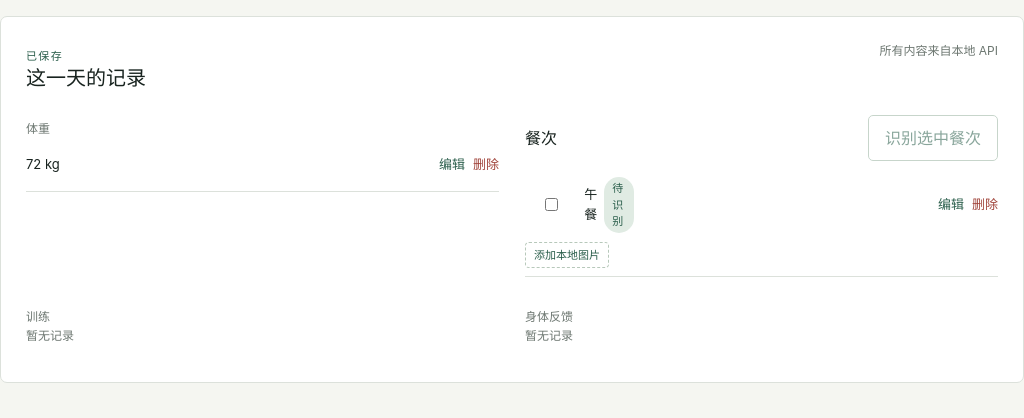
Test: SavedRecords › shows an error and releases the edit state when a saved record update fails
Click the button with aria-label "编辑体重". click: (452, 165)
box: [439,147,465,182]
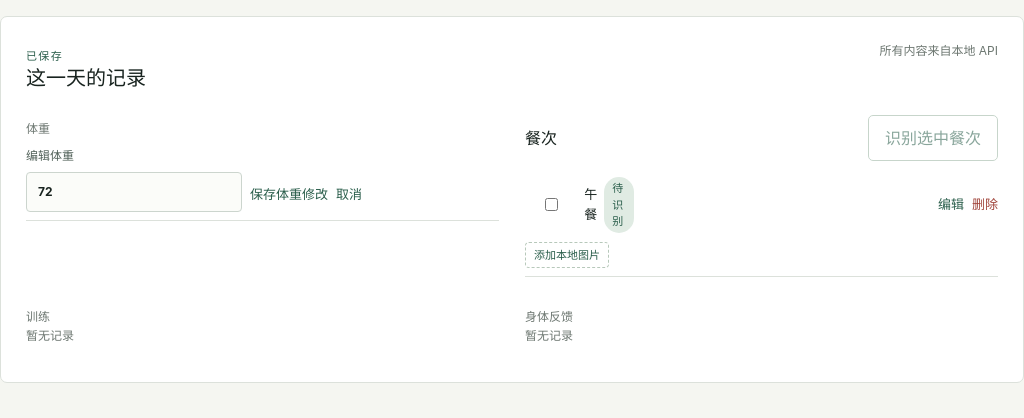
Click the button "保存体重修改". click: (289, 194)
box: [250,176,328,212]
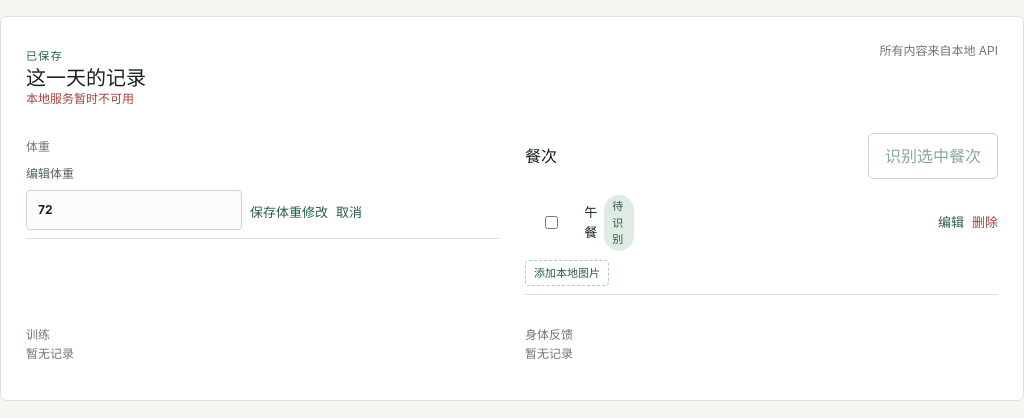
Expected: the button "保存体重修改" is enabled, [250,194,328,230]
Expected: the message reads "本地服务暂时不可用", [26,91,134,106]
